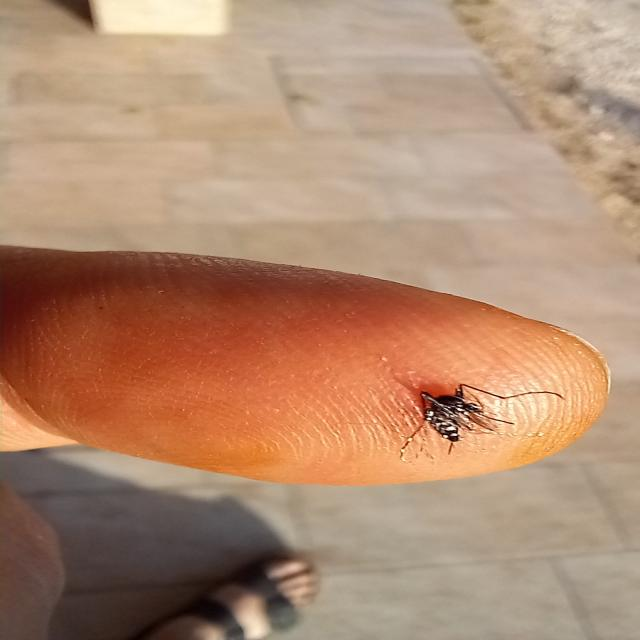albopictus: (399, 377, 562, 461)
